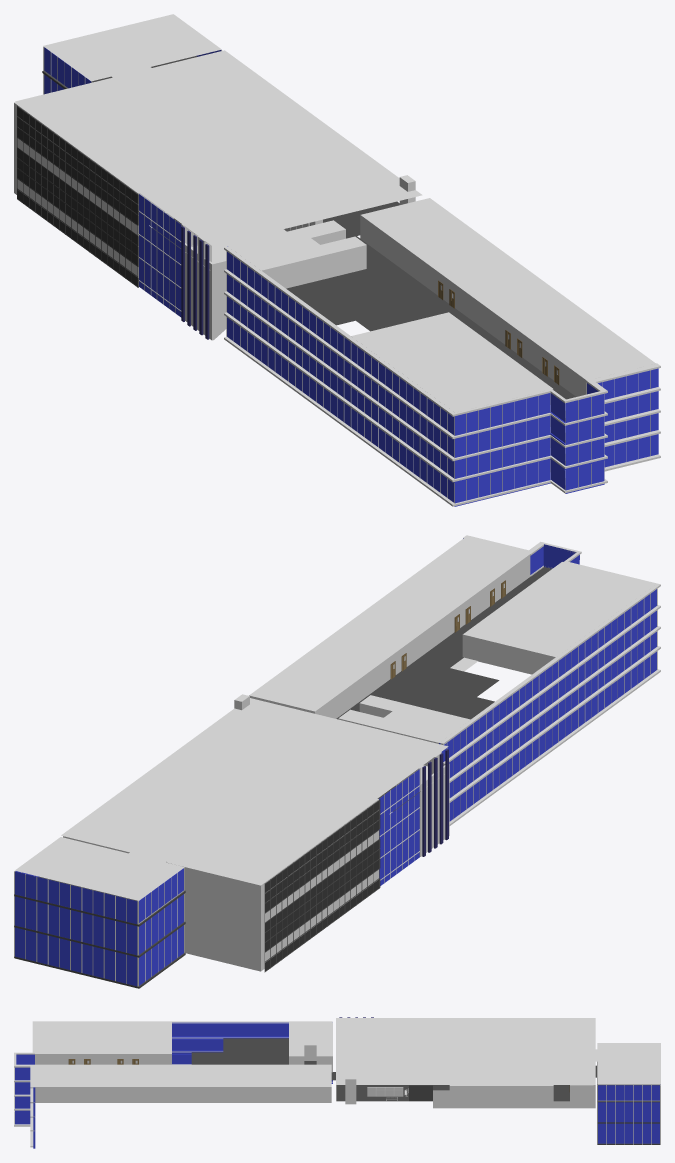
Rendered from Pascapas.fbx.
3 renders of one model, top to bottom at view 1: azimuth 30°, elevation 25°; view 2: azimuth 150°, elevation 25°; view 3: azimuth 270°, elevation 25°, orthographic. The views are drawn at different scales.
Visible parts, largest first — view 1: Plane.013, Cube.048, Cube.047, Cube.089, Plane, Cube.060, Plane.010, Cube.077, Cube.083, Cube.046, Cube.041, Cube.061 (+15 smaller); view 2: Plane.013, Cube.048, Cube.047, Cube.027, Cube.041, Plane.010, Plane, Cube.060, Cube.089, Cube.031, Cube.083, Cube.077 (+18 smaller); view 3: Plane.013, Cube.048, Cube.047, Plane, Cube.028, Cube.060, Cube.046, Cube.071, Cube.041, Cube.077, Cube.061, Cube.083 (+7 smaller).
Part boxes in pixels (x1,y1,x2,y2): Plane.013: [15, 14, 422, 246]; Cube.048: [360, 198, 655, 396]; Cube.047: [351, 312, 553, 412]; Cube.089: [227, 317, 658, 506]; Plane: [43, 56, 575, 399]; Cube.060: [227, 246, 658, 439]; Plane.010: [17, 107, 138, 287]; Cube.077: [227, 271, 658, 461]; Cube.083: [227, 296, 658, 482]; Cube.046: [228, 220, 366, 288]; Cube.041: [14, 102, 165, 277]; Cube.061: [224, 246, 660, 416]; Plane.013: [15, 698, 448, 900]; Cube.048: [249, 538, 530, 718]; Cube.047: [462, 562, 654, 674]; Cube.027: [15, 871, 137, 986]; Cube.041: [166, 799, 378, 971]; Plane.010: [265, 799, 380, 970]; Plane: [38, 567, 551, 924]; Cube.060: [439, 538, 656, 761]; Cube.089: [449, 651, 656, 821]; Cube.031: [139, 868, 183, 985]; Cube.083: [449, 627, 656, 797]; Cube.077: [444, 565, 656, 778]; Plane.013: [336, 1018, 660, 1084]; Cube.048: [35, 1064, 331, 1102]; Cube.047: [35, 1022, 171, 1064]; Plane: [172, 1038, 660, 1101]; Cube.028: [598, 1085, 659, 1143]; Cube.060: [15, 1022, 288, 1104]; Cube.046: [289, 1022, 332, 1072]; Cube.071: [449, 1085, 553, 1101]; Cube.041: [433, 1085, 595, 1108]; Cube.077: [15, 1036, 288, 1118]; Cube.061: [14, 1021, 332, 1088]; Cube.083: [15, 1050, 222, 1132].
Size of the model in its own units: 3942 by 1802 by 15511.
